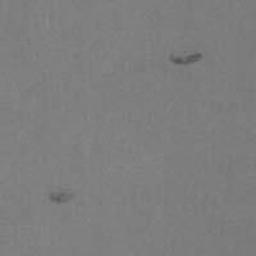Oil spot: (42, 187, 79, 206), (166, 50, 205, 67)
